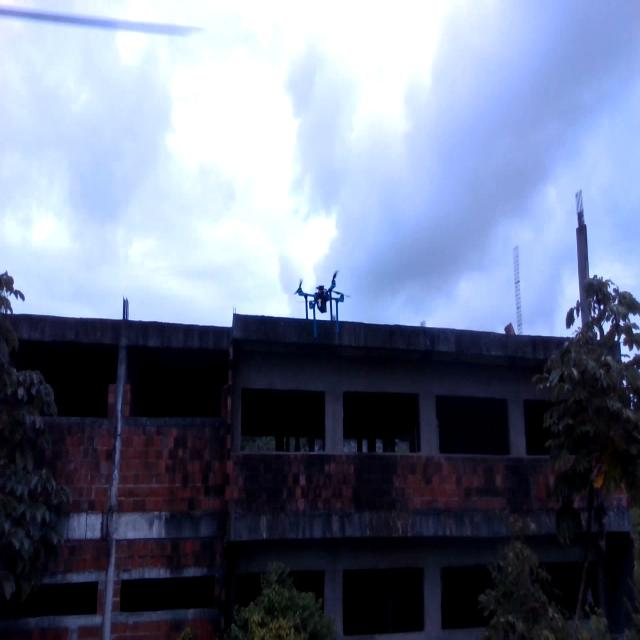-uav-: (289, 265, 365, 348)
